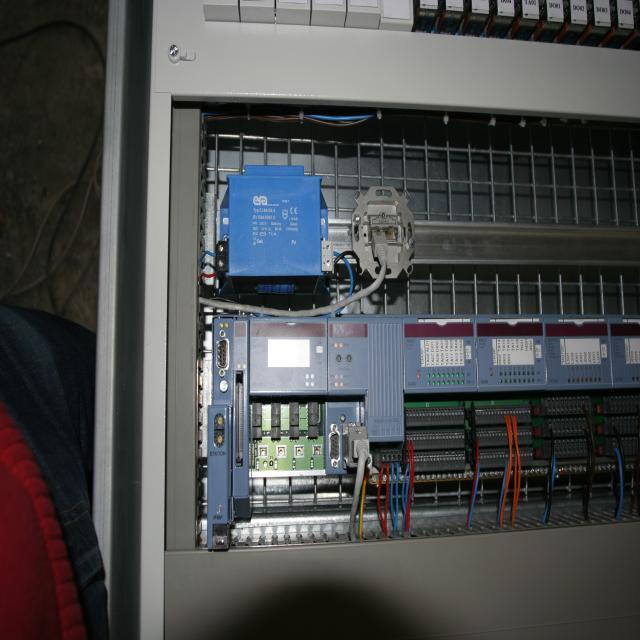Dimmer: (617, 0, 634, 29), (593, 0, 611, 26), (571, 0, 587, 24), (547, 0, 563, 22), (522, 0, 539, 18), (497, 0, 514, 16)
SPS_System_Steuerungskomponente: (328, 317, 404, 441), (249, 317, 327, 395), (403, 317, 477, 393), (475, 315, 546, 391), (544, 314, 613, 389), (609, 315, 640, 387)
